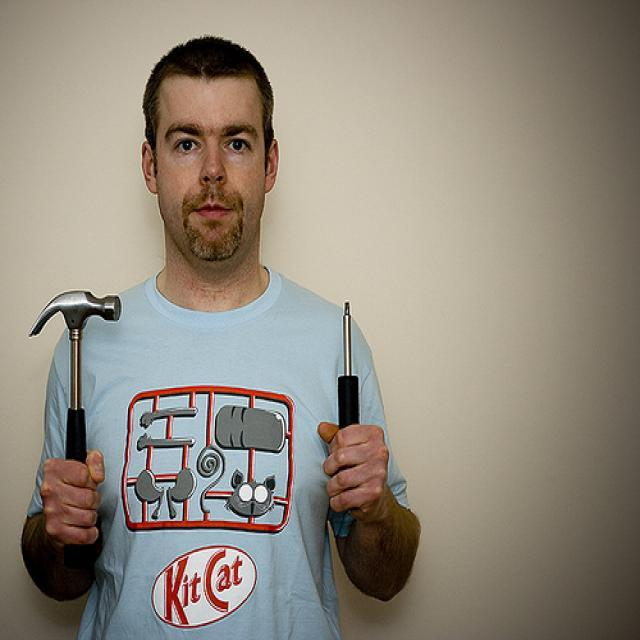hammer: (23, 268, 128, 544)
screwdriver: (316, 286, 378, 518)
